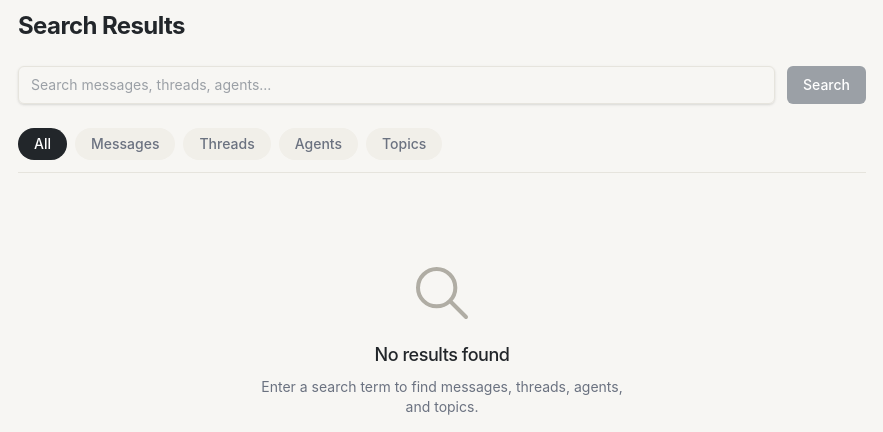
Test: SearchResultsPage › search functionality › enables search button when input has value
Type "test" into the field with placeholder "Search messages, threads, agents...".
click(396, 85); type("test")  # box x1=18 y1=66 x2=775 y2=104
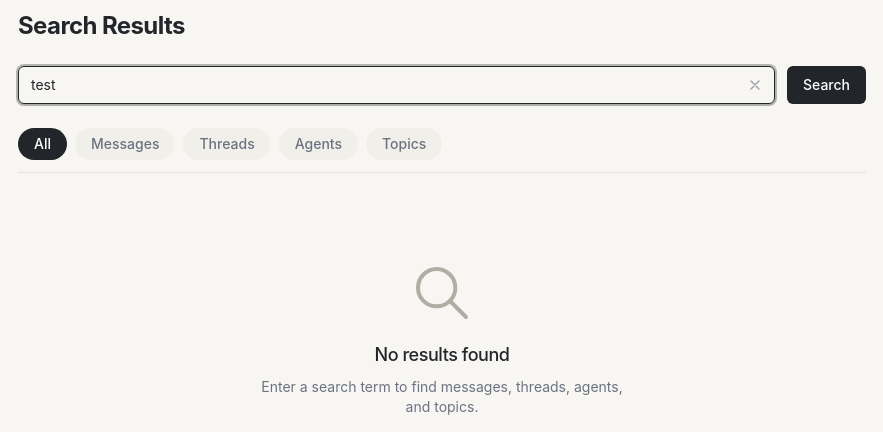
Expected: the button "Search" is enabled, x1=787 y1=66 x2=866 y2=104
